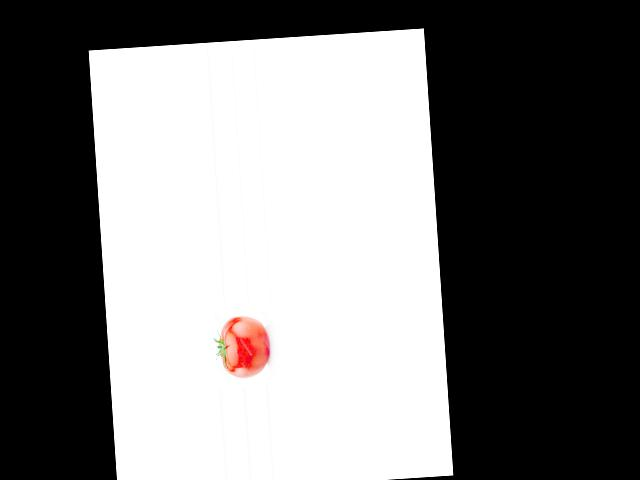tomato: (217, 314, 270, 379)
